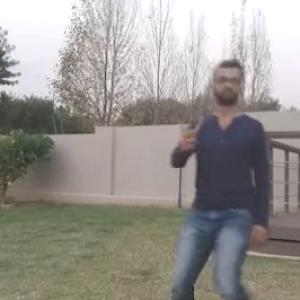takeoff-hand: (172, 107, 205, 152)
